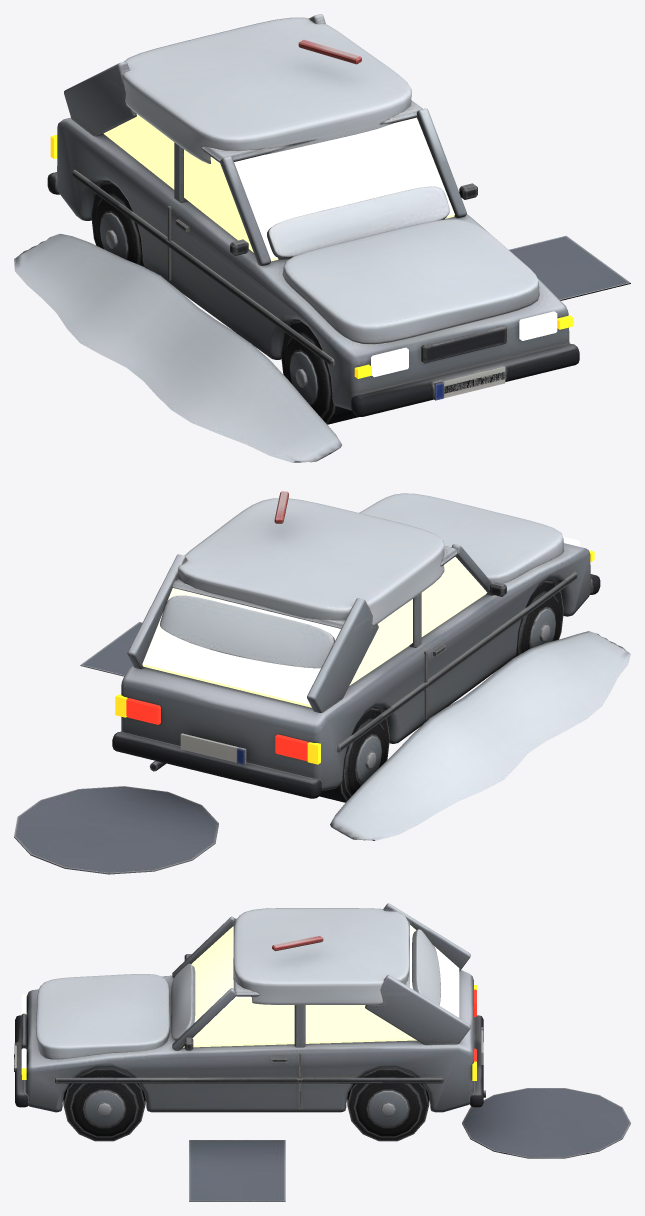
The model's file is car_shelter.glb.
3 renders of one model, top to bottom at view 1: azimuth 30°, elevation 25°; view 2: azimuth 150°, elevation 25°; view 3: azimuth 270°, elevation 25°, orthographic. The views are drawn at different scales.
Parts seen in each view (by area): view 1: car_shelter, car_shelter_glow; view 2: car_shelter, car_shelter_glow; view 3: car_shelter, car_shelter_glow.
Part boxes in pixels (left/top/right/bottom): car_shelter: left=14, top=14, right=630, bottom=462; car_shelter_glow: left=50, top=114, right=573, bottom=378; car_shelter: left=14, top=491, right=630, bottom=874; car_shelter_glow: left=115, top=536, right=594, bottom=764; car_shelter: left=14, top=903, right=630, bottom=1201; car_shelter_glow: left=21, top=925, right=476, bottom=1080.
Bounding box in the file's own units: 3.39 × 1.65 × 5.11.
5 materials, 1 textured.
